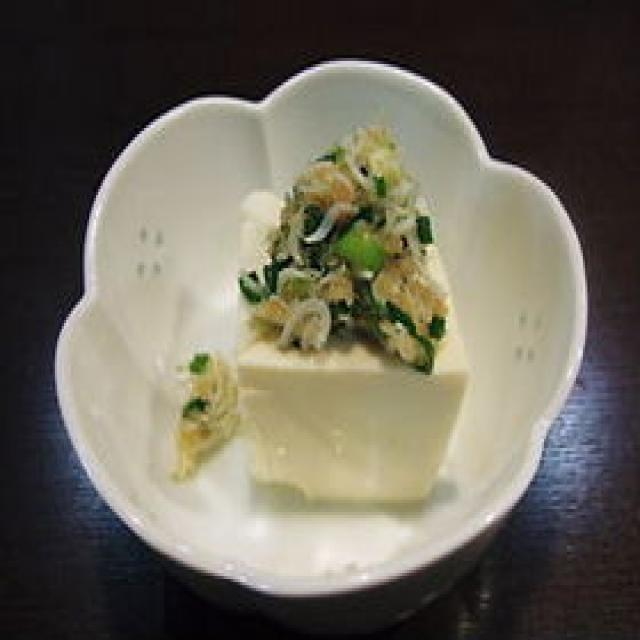豆腐料理: (164, 122, 468, 515)
